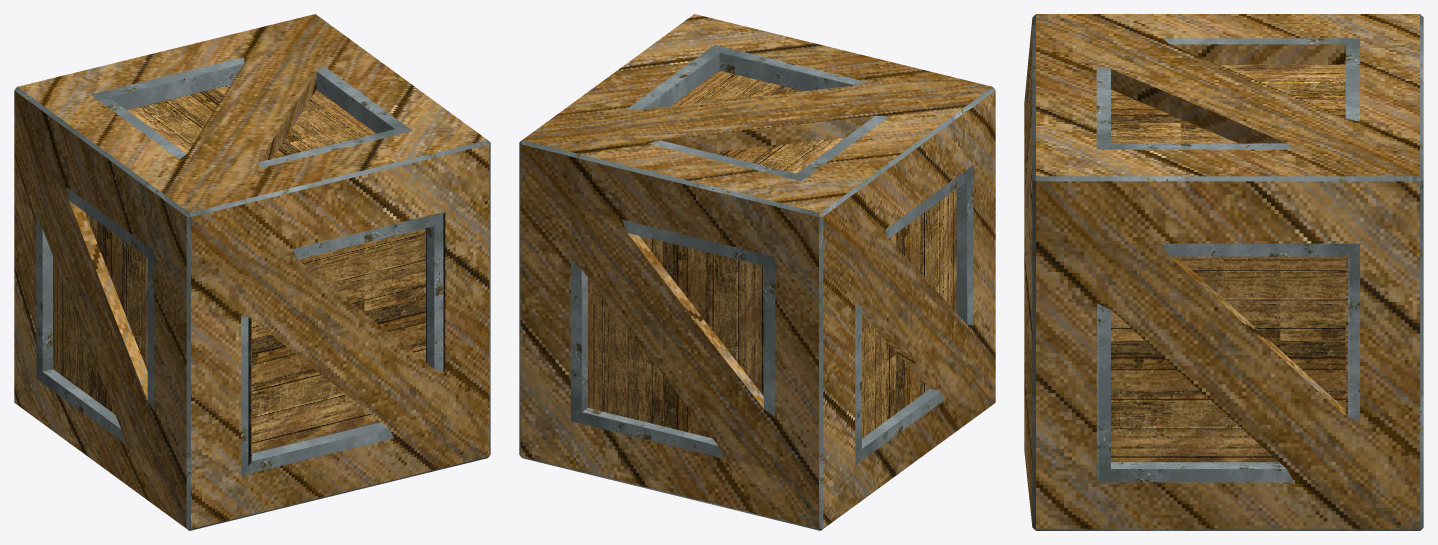
File: crates.fbx
The picture shows the model from 3 angles, left to right: view 1: azimuth 30°, elevation 25°; view 2: azimuth 150°, elevation 25°; view 3: azimuth 270°, elevation 25°; orthographic projection. The views are drawn at different scales.
Visible parts, largest first — view 1: Crate; view 2: Crate; view 3: Crate.
Boxes of the visible parts, left/top/right/bottom form: Crate: left=14, top=14, right=490, bottom=530; Crate: left=519, top=14, right=995, bottom=530; Crate: left=1024, top=14, right=1423, bottom=530.
Bounding box in the file's own units: 205 × 202 × 202.
